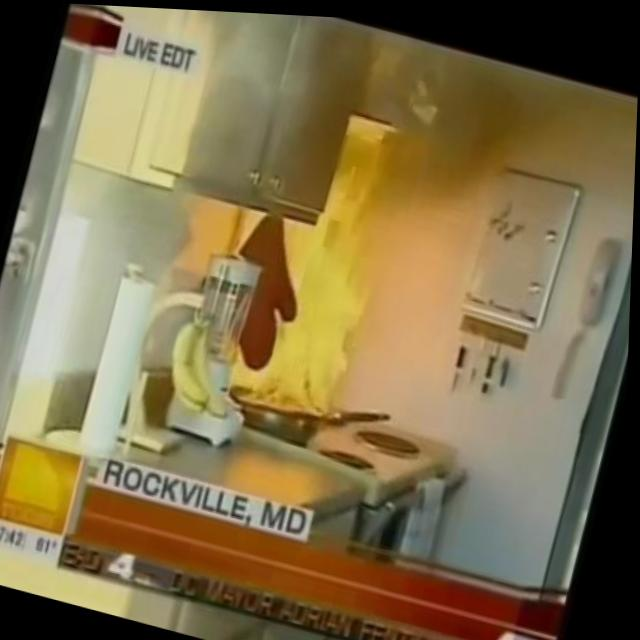fire: (196, 87, 419, 425)
